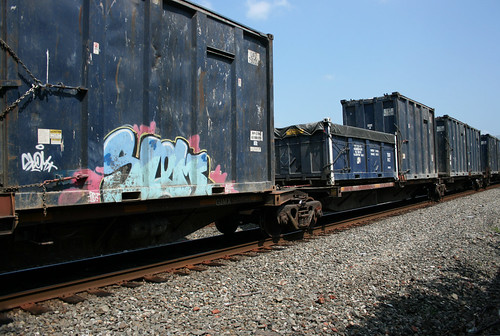sky: (274, 1, 500, 114)
train: (1, 1, 500, 202)
train track: (4, 197, 448, 329)
